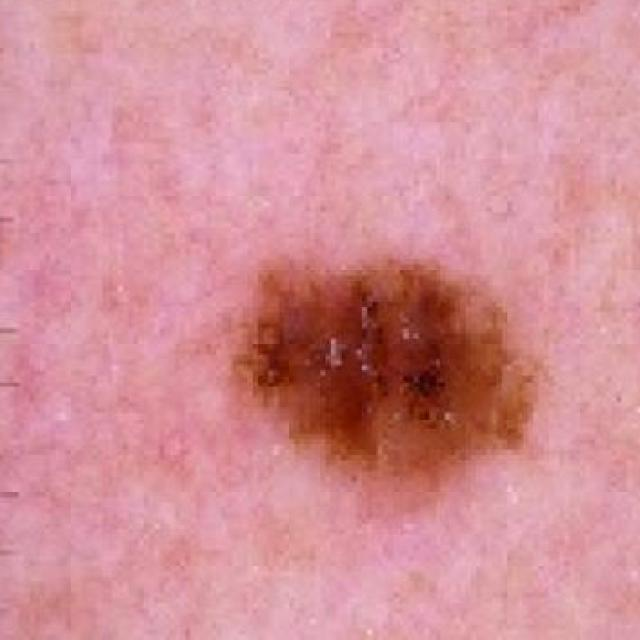MEL: (216, 187, 534, 513)
